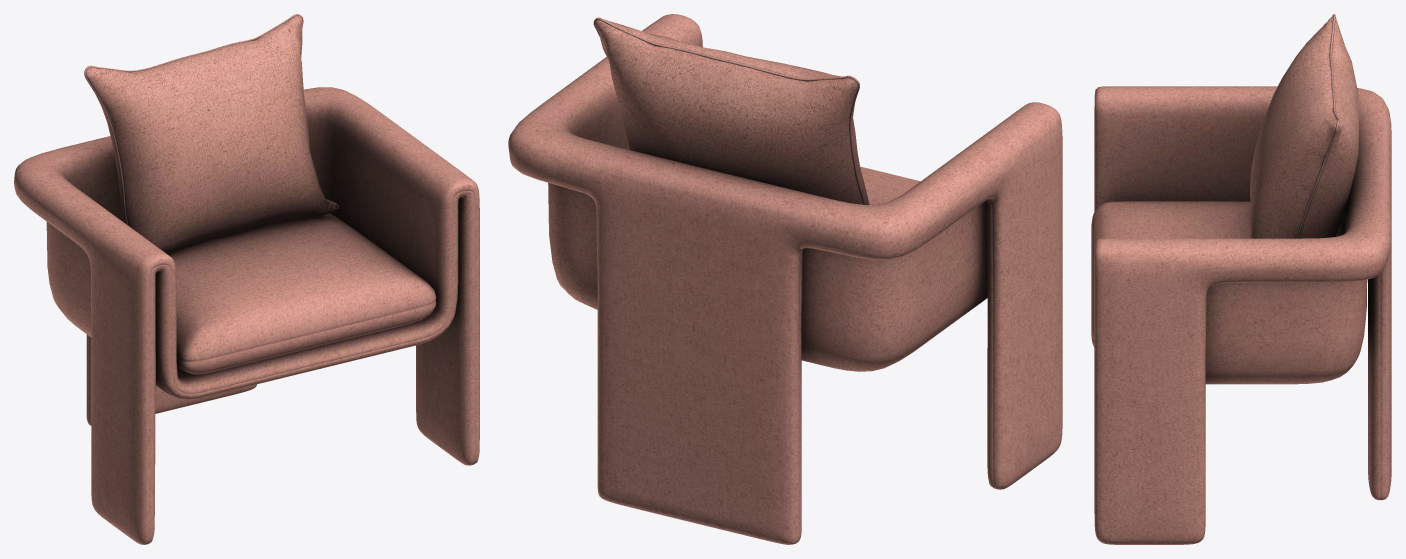
The model's file is sofa3.glb.
The picture shows the model from 3 angles, left to right: view 1: azimuth 30°, elevation 25°; view 2: azimuth 150°, elevation 25°; view 3: azimuth 270°, elevation 25°; orthographic projection. The views are drawn at different scales.
Visible parts, largest first — view 1: scenes; view 2: scenes; view 3: scenes.
Boxes of the visible parts, x1,y1,x2,y2 form: scenes: (14, 14, 479, 544); scenes: (508, 14, 1062, 544); scenes: (1091, 14, 1391, 544).
Size of the model in its own units: 6.07 by 6.46 by 4.46.
Materials: 3 (3 with a texture image).
